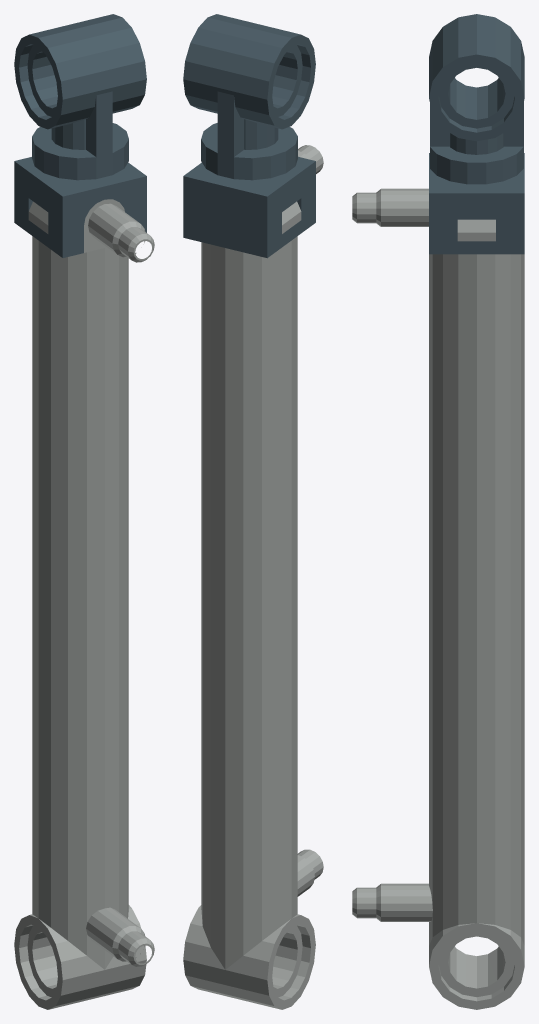
The picture shows the model from 3 angles, left to right: view 1: azimuth 30°, elevation 25°; view 2: azimuth 150°, elevation 25°; view 3: azimuth 270°, elevation 25°; orthographic projection.
Parts seen in each view (by area): view 1: world; view 2: world; view 3: world.
Boxes of the visible parts, bbox=[...] form: world: bbox=[14, 14, 154, 1009]; world: bbox=[183, 14, 323, 1009]; world: bbox=[352, 14, 524, 1009].
Bounding box in the file's own units: 0.008 × 0.088 × 0.0144.
